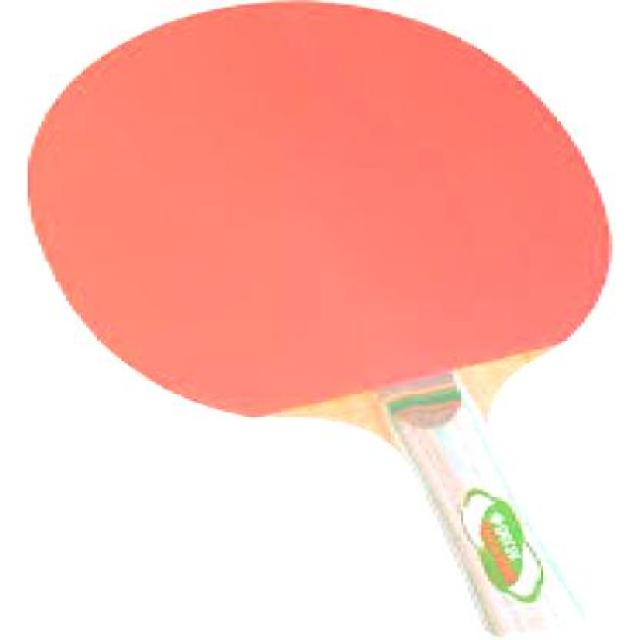table_tennis_racket: (9, 1, 618, 428)
